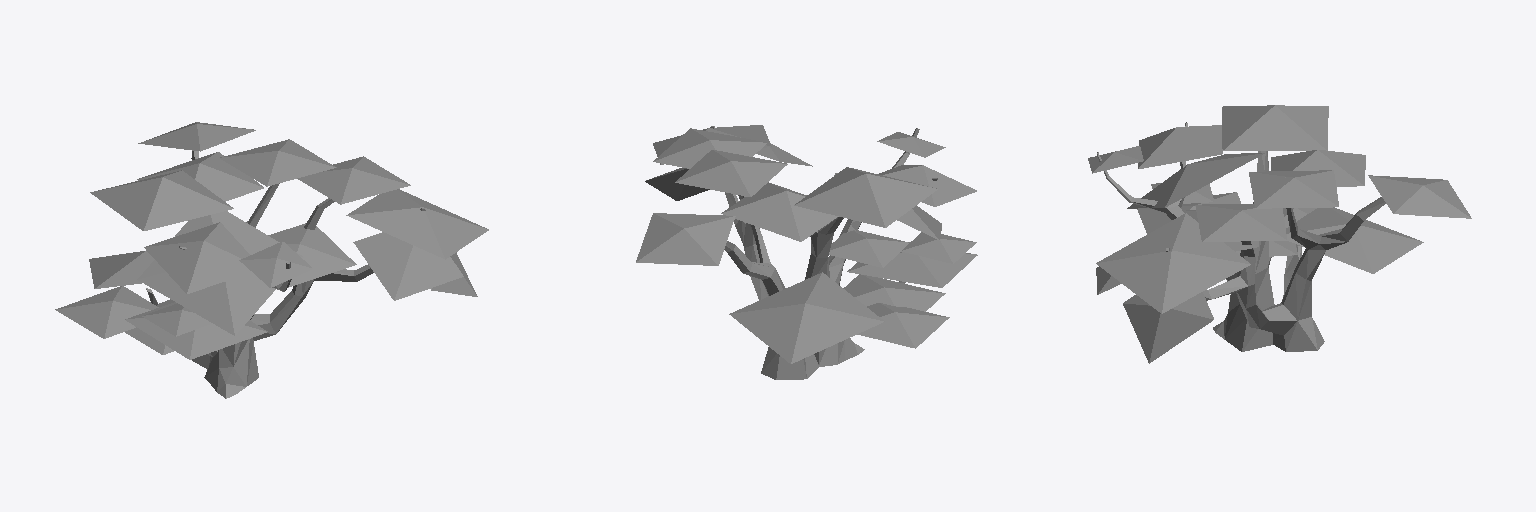
The model's file is bush_11.obj.
3 views of the same model, side by side, from view 1: azimuth 30°, elevation 25°; view 2: azimuth 150°, elevation 25°; view 3: azimuth 270°, elevation 25° (orthographic).
Parts seen in each view (by area): view 1: bush_11; view 2: bush_11; view 3: bush_11.
Part boxes in pixels (left/top/right/bottom): bush_11: left=55, top=122, right=488, bottom=398; bush_11: left=636, top=125, right=977, bottom=379; bush_11: left=1088, top=105, right=1471, bottom=363.
Bounding box in the file's own units: 506 × 288 × 483.